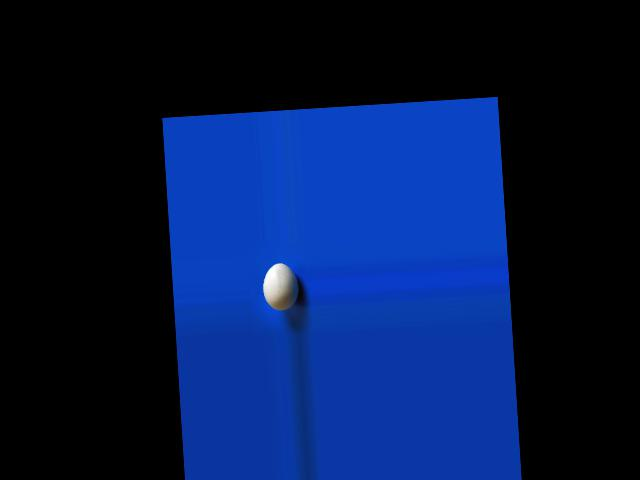egg: (261, 261, 300, 312)
